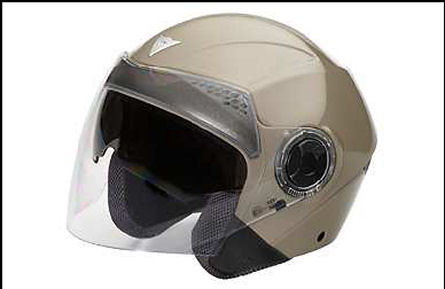helmet: (91, 17, 373, 261)
